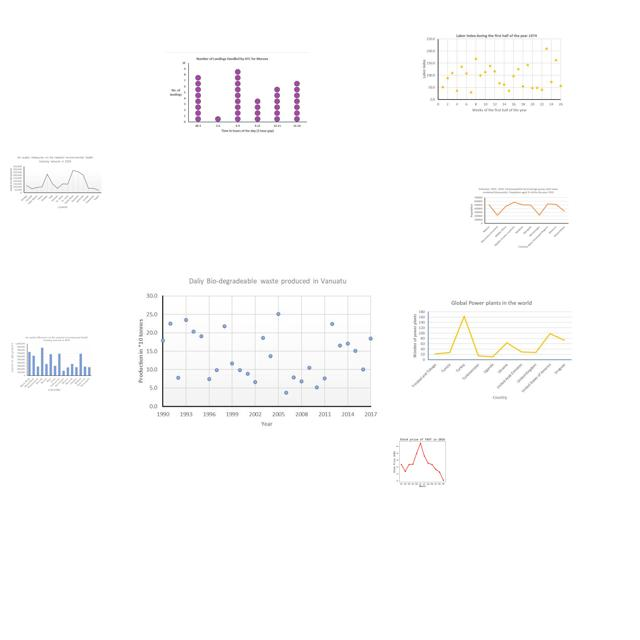Graph: (129, 275, 382, 433), (409, 297, 574, 402), (165, 52, 310, 137), (421, 32, 564, 114), (466, 186, 570, 249), (7, 154, 103, 210), (10, 334, 93, 393), (386, 435, 457, 488)
